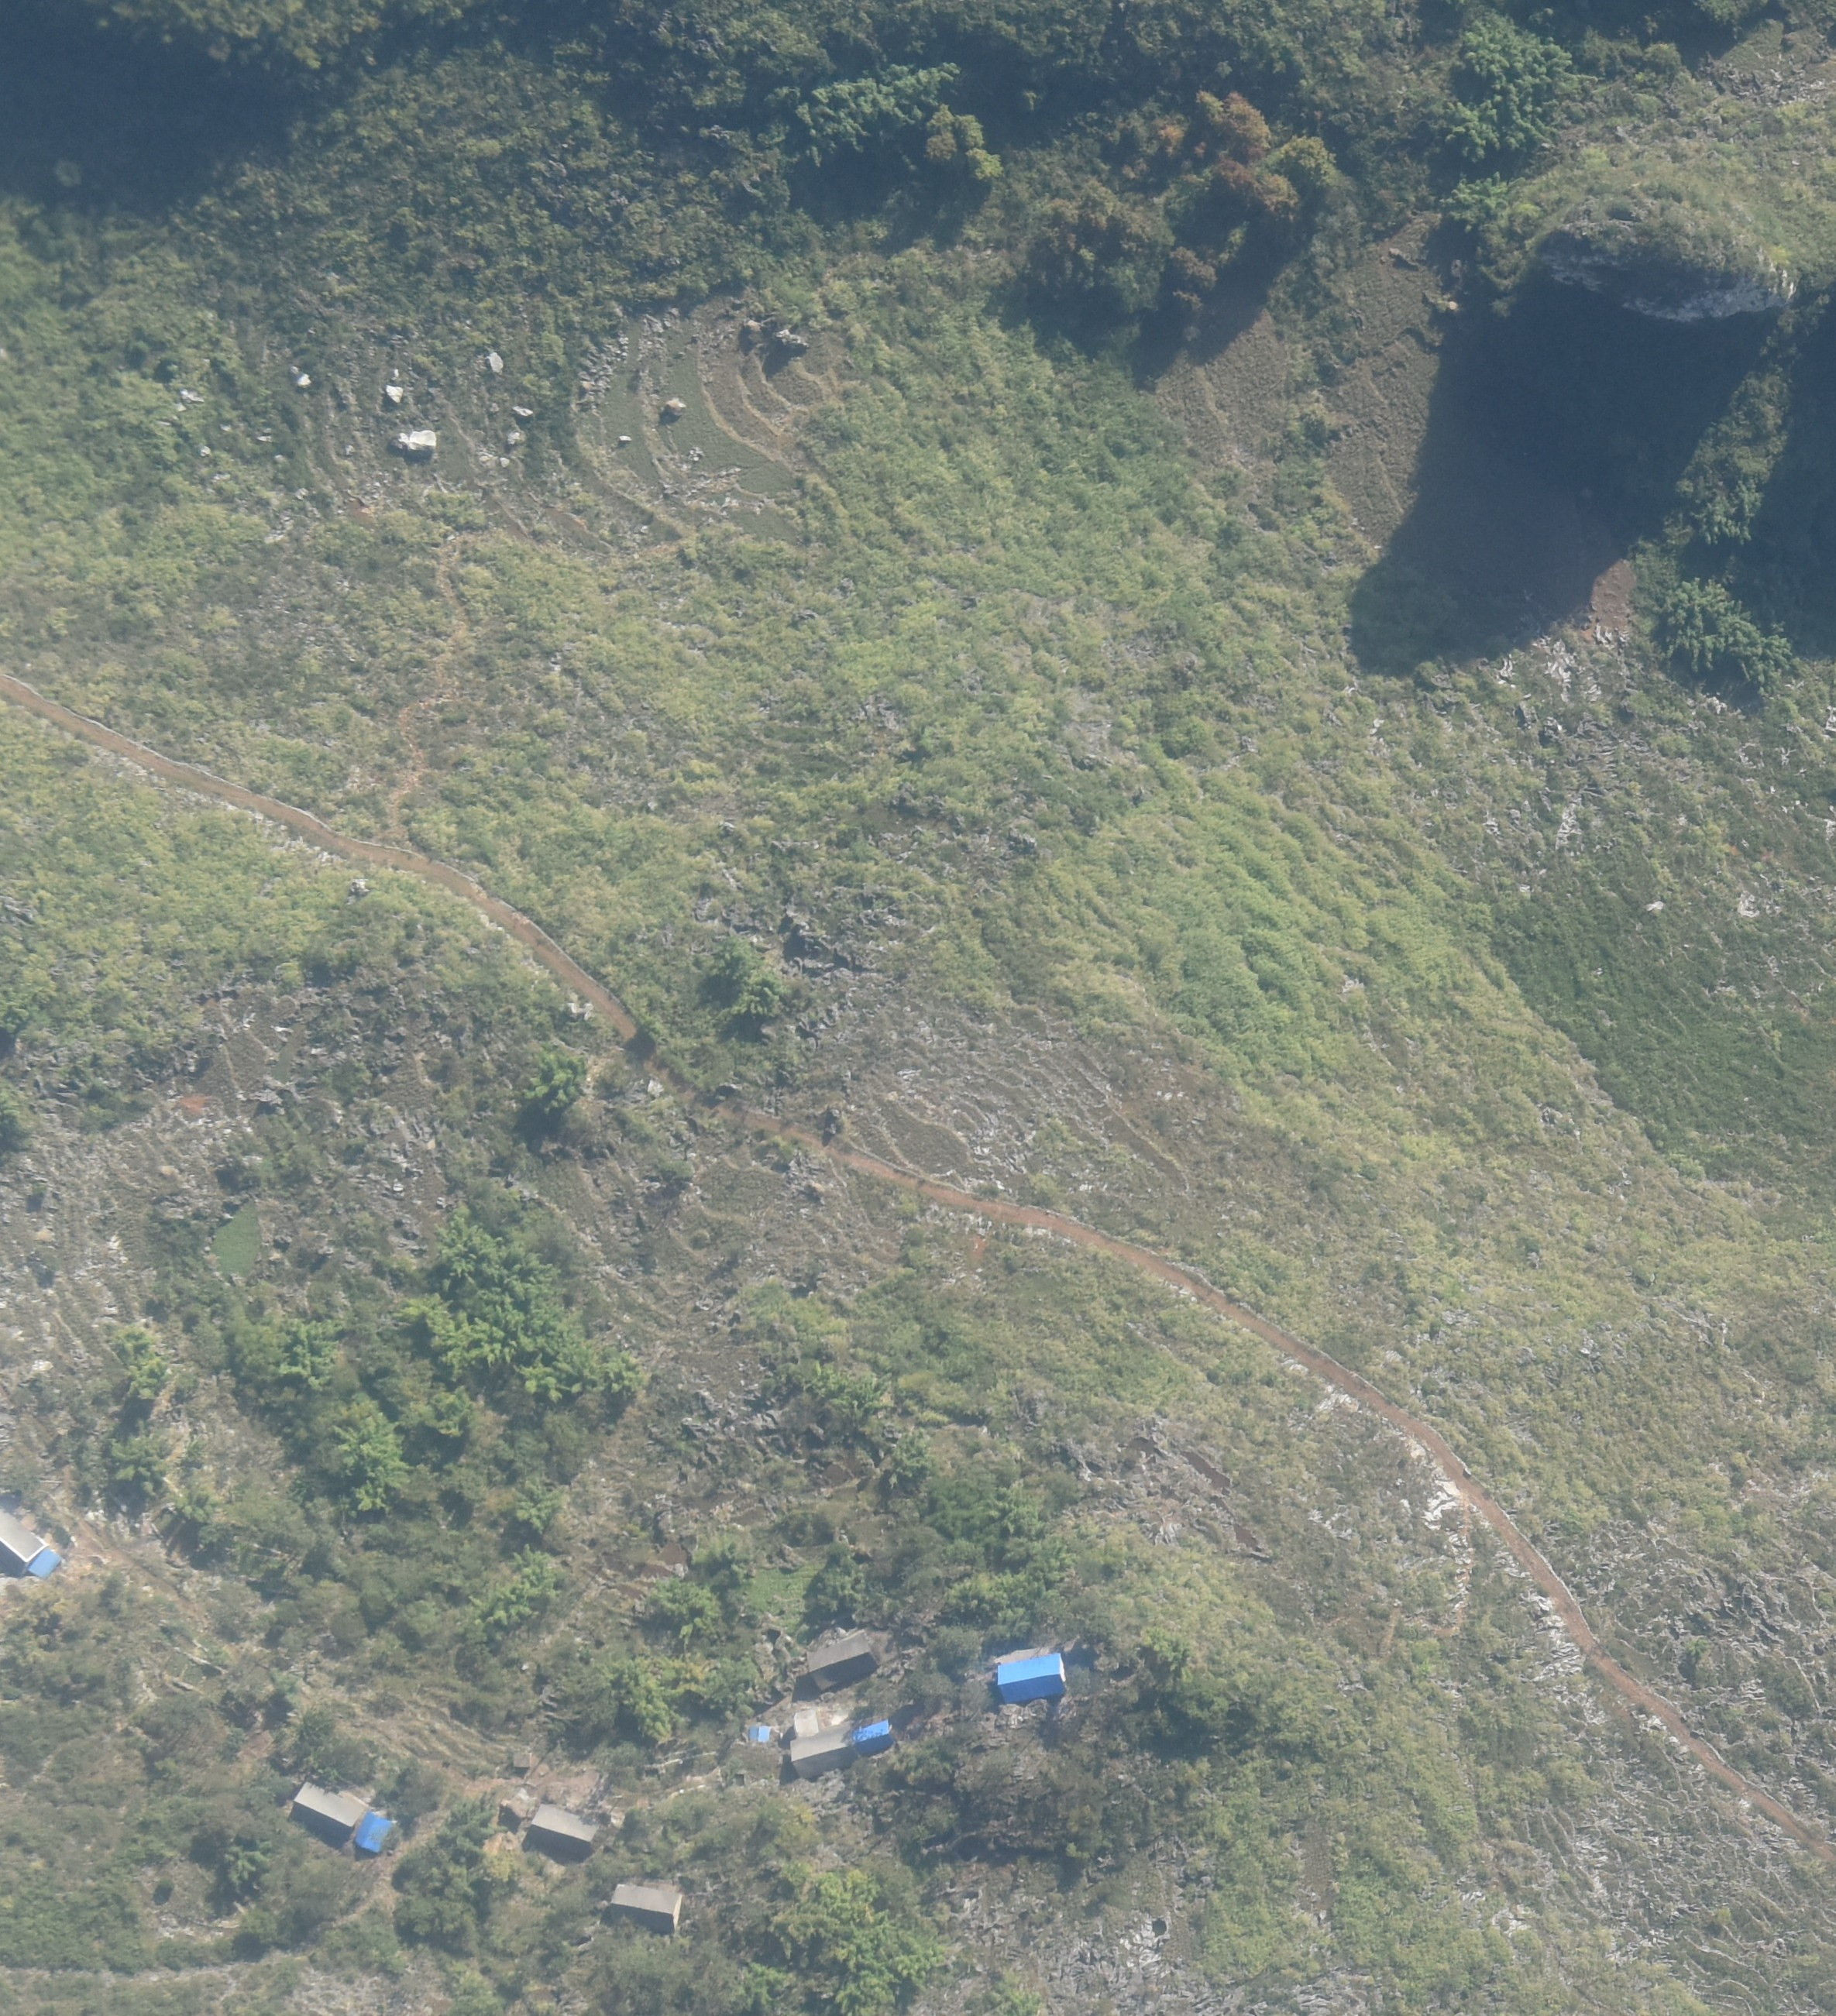building: (791, 1714, 859, 1777), (806, 1631, 877, 1688), (292, 1782, 362, 1839), (610, 1884, 683, 1932), (529, 1805, 597, 1854), (0, 1507, 47, 1575), (513, 1753, 531, 1767)
prefabricated-house: (996, 1654, 1068, 1702), (353, 1812, 392, 1853), (854, 1721, 893, 1756), (28, 1547, 60, 1577), (748, 1726, 770, 1740)
